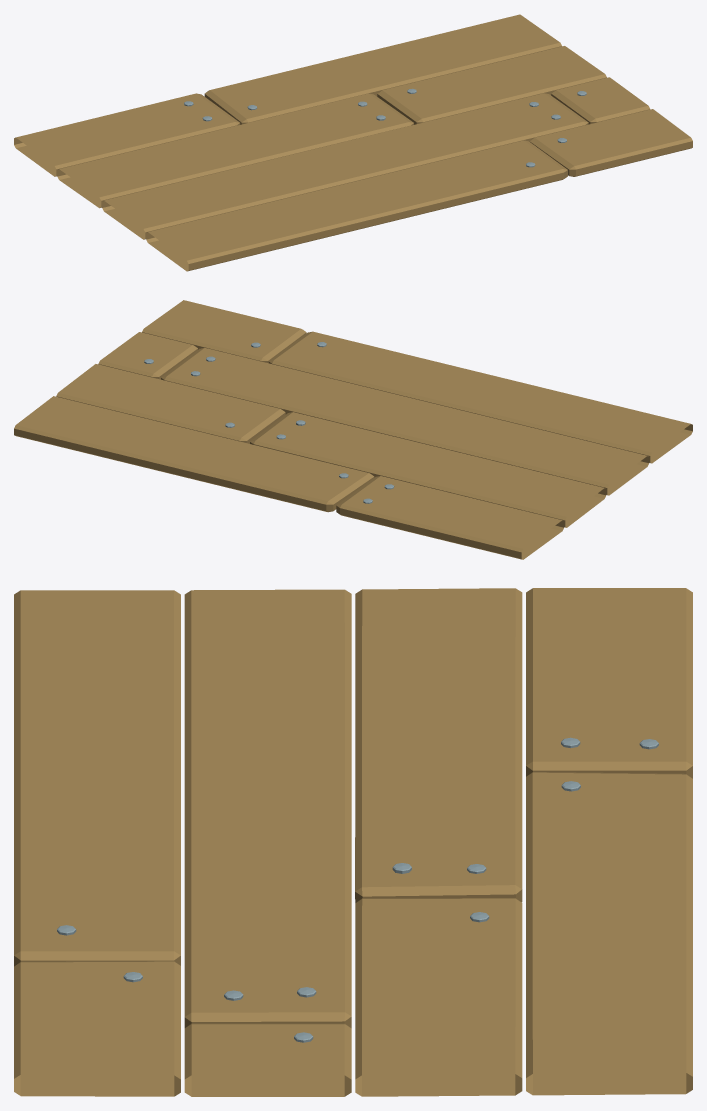
Rendered from Floor_type2_FIX.fbx.
3 renders of one model, top to bottom at view 1: azimuth 30°, elevation 25°; view 2: azimuth 150°, elevation 25°; view 3: azimuth 270°, elevation 25°, orthographic. The views are drawn at different scales.
Parts seen in each view (by area): view 1: plain boards.019; view 2: plain boards.019; view 3: plain boards.019.
Boxes of the visible parts, bbox=[...] form: plain boards.019: bbox=[14, 14, 692, 271]; plain boards.019: bbox=[14, 300, 692, 559]; plain boards.019: bbox=[14, 588, 692, 1096].
Size of the model in its own units: 283 by 6.98 by 167.
